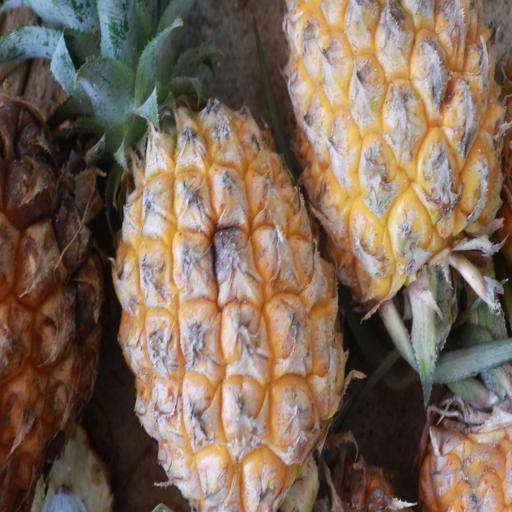Pineapple - v8 v1: (119, 0, 362, 512), (278, 1, 493, 306)
